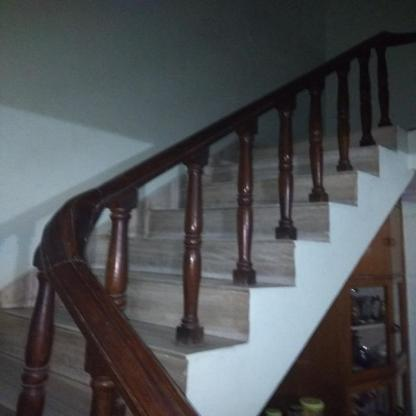stair: (22, 87, 393, 416)
